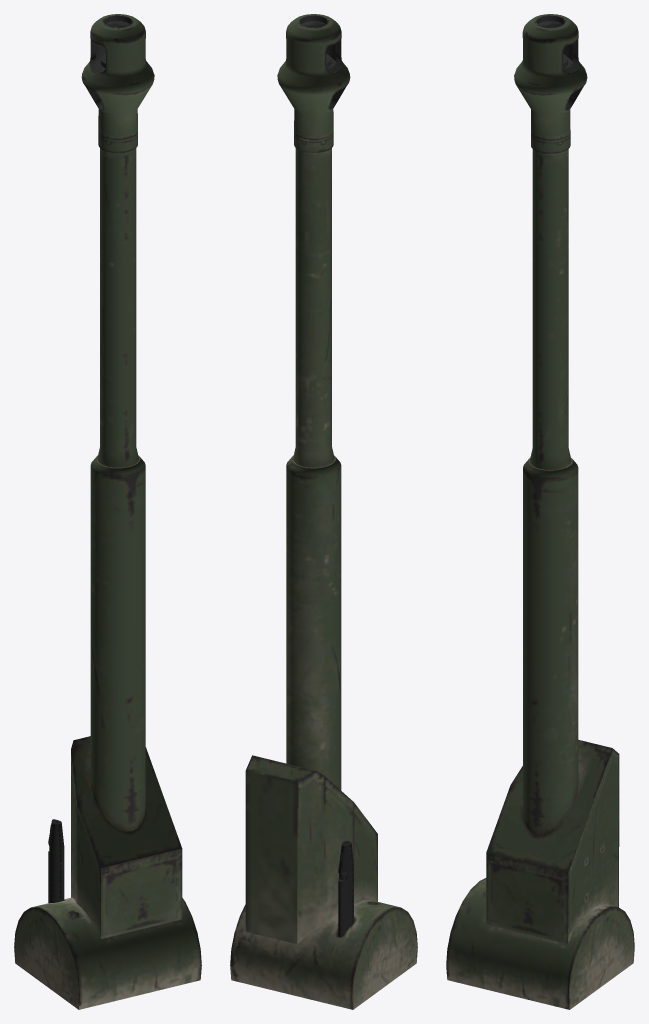
Rendered from Gun_01.glb.
3 views of the same model, side by side, from view 1: azimuth 30°, elevation 25°; view 2: azimuth 150°, elevation 25°; view 3: azimuth 330°, elevation 25° (orthographic).
Parts seen in each view (by area): view 1: set_0_group_0; view 2: set_0_group_0; view 3: set_0_group_0.
Part boxes in pixels (x1,y1,x2,y2): set_0_group_0: (14,14,201,1009); set_0_group_0: (230,14,417,1009); set_0_group_0: (446,14,634,1009).
Bounding box in the file's own units: 0.6 × 4.46 × 0.5611.
1 material, 1 textured.
